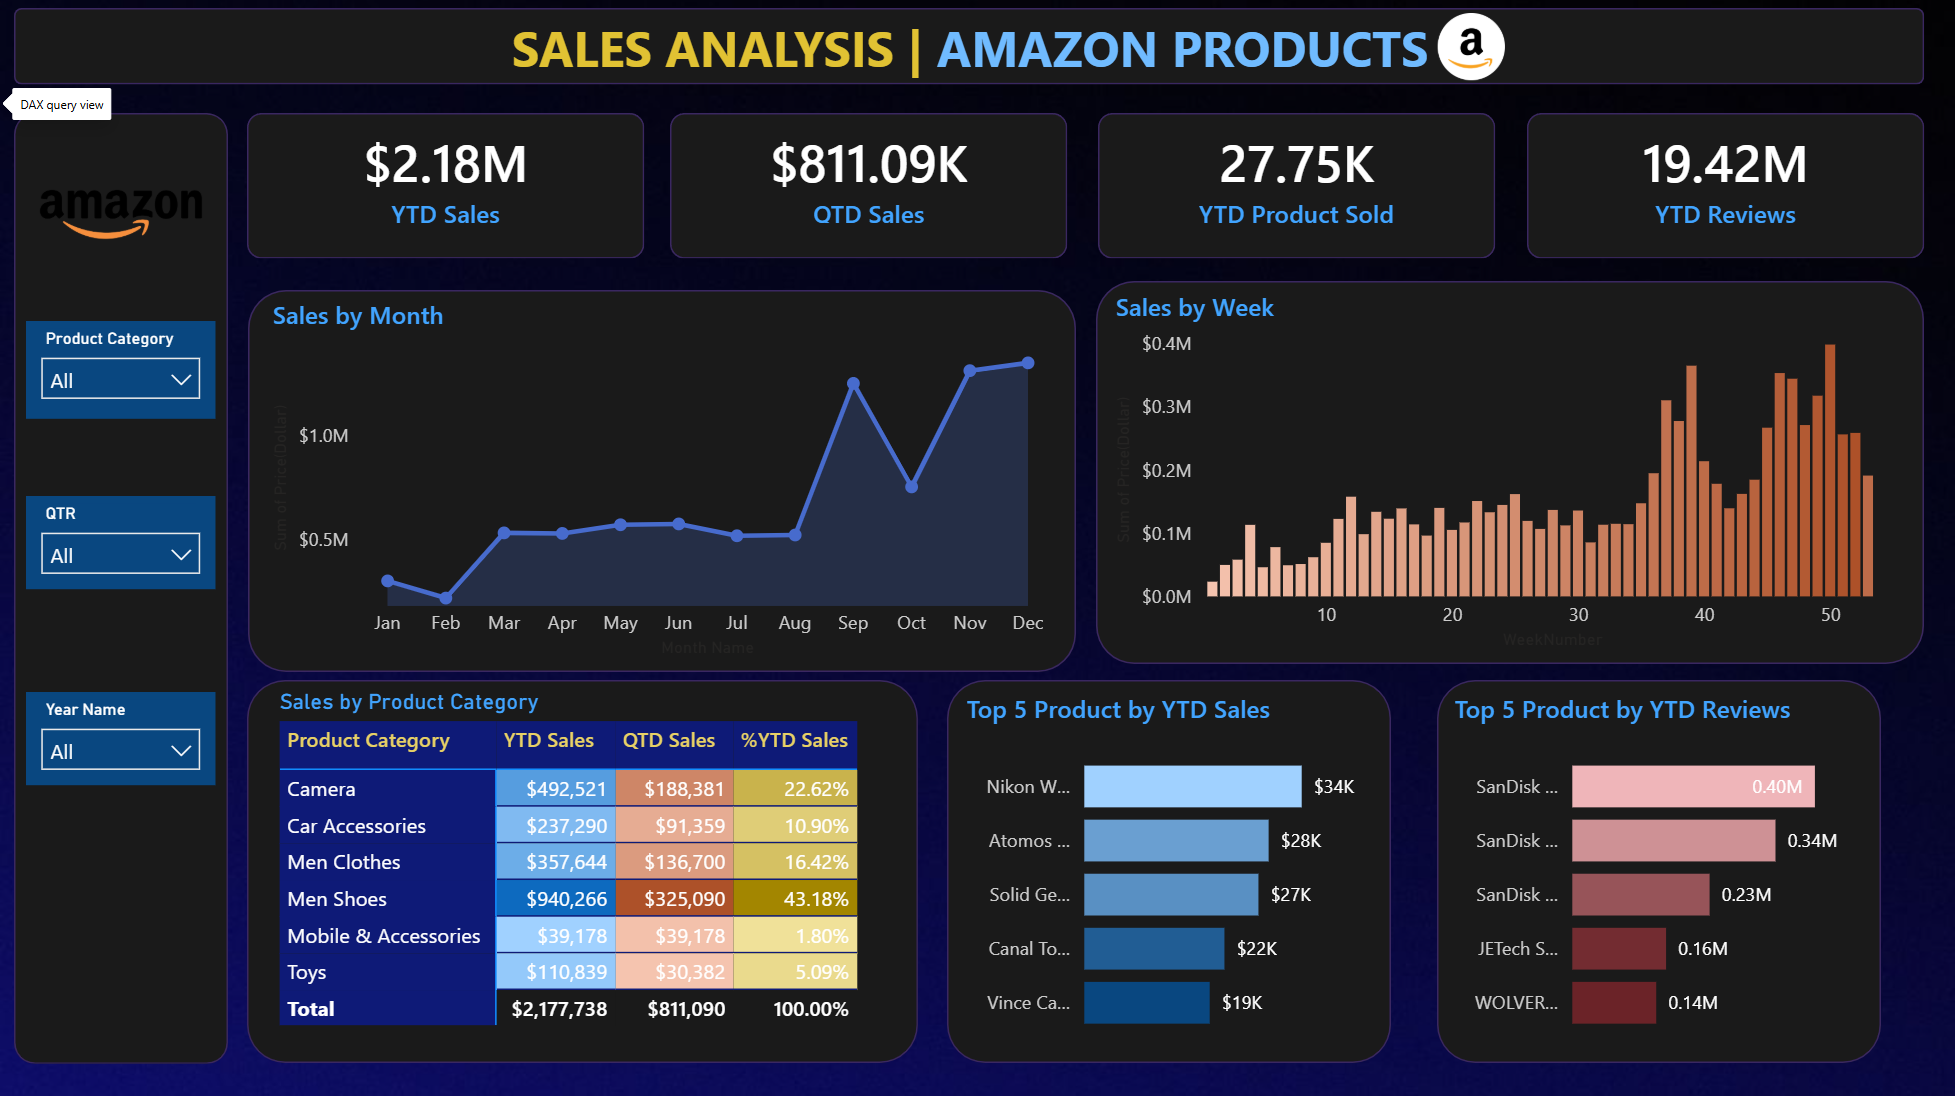

The dashboard page shown, as its layout file describes it:
{"tool":"powerbi","page":{"name":"Page 1","canvas":[1280,720],"ordinal":0},"visuals":[{"type":"shape","box":[9.3,5.3,1250,50],"z":0},{"type":"shape","box":[161.7,73.9,260,95.3],"z":1000},{"type":"textbox","box":[330,4,619.3,52.7],"z":2000},{"type":"cardVisual","fields":{"Data":["Amazon_Data.YTD Sales"]},"box":[161.7,73.9,260.3,95.2],"z":3000},{"type":"image","box":[934,8.7,57.3,44],"z":4000},{"type":"shape","box":[438.4,73.9,260,95.3],"z":5000},{"type":"shape","box":[9.2,73.9,140,622.3],"z":6000},{"type":"shape","box":[718.7,73.9,260,95.3],"z":7000},{"type":"shape","box":[999.1,73.9,260,95.3],"z":8000},{"type":"cardVisual","fields":{"Data":["Amazon_Data.QTD Sales"]},"box":[439.3,73.9,259.6,95.2],"z":9000},{"type":"shape","box":[162.3,189.8,541.8,250],"z":10000},{"type":"cardVisual","fields":{"Data":["Amazon_Data.YTD Product Sold"]},"box":[718.2,73.9,260.3,95.2],"z":11000},{"type":"cardVisual","fields":{"Data":["Amazon_Data.YTD Reviews"]},"box":[999.1,73.9,260.3,95.2],"z":12000},{"type":"areaChart","title":"Sales by Month","fields":{"Category":["Date Table.Month Name"],"Y":["Sum(Amazon_Data.Price(Dollar))"]},"box":[173.4,195,519.6,239.5],"z":13000},{"type":"shape","box":[717.2,183.9,541.8,250.6],"z":14000},{"type":"columnChart","title":"Sales by Week","fields":{"Category":["Date Table.WeekNumber"],"Y":["Sum(Amazon_Data.Price(Dollar))"]},"box":[725.1,189.8,526.1,239.5],"z":15000},{"type":"shape","box":[161.6,445,439.1,250.6],"z":16000},{"type":"pivotTable","title":"Sales by Product Category","fields":{"Rows":["Amazon_Data.Product Category"],"Values":["Amazon_Data.YTD Sales","Amazon_Data.QTD Sales","Divide(Amazon_Data.YTD Sales, ScopedEval(Amazon_Data.YTD Sales, []))"]},"box":[178,450.9,412.3,239.5],"z":17000},{"type":"shape","box":[619.7,445,290.6,250.6],"z":18000},{"type":"shape","box":[940.4,445,290.6,250.6],"z":19000},{"type":"clusteredBarChart","title":"Top 5 Product by YTD Sales","fields":{"Category":["Amazon_Data.Product Description"],"Y":["Amazon_Data.YTD Sales"]},"box":[627.5,452.6,274.4,237.2],"z":20000},{"type":"clusteredBarChart","title":"Top 5 Product by YTD Reviews","fields":{"Category":["Amazon_Data.Product Description"],"Y":["Amazon_Data.YTD Reviews"]},"box":[946.6,452.6,277.1,237.2],"z":21000},{"type":"slicer","fields":{"Values":["Amazon_Data.Product Category"]},"box":[17,210.1,124.3,64.1],"z":22000},{"type":"slicer","fields":{"Values":["Date Table.QTR"]},"box":[17,324.6,124.3,60.9],"z":23000},{"type":"slicer","fields":{"Values":["Date Table.Year Name"]},"box":[17,452.8,124.3,60.9],"z":24000},{"type":"image","box":[9.2,104,140,65.4],"z":25000}]}

Visuals, with their boxes on the page's 1280x720 design canvas (x1, y1, x2, y2). These are canvas units, not pixel positions in the 1955x1096 screenshot, which may show the page scaled, cropped or inside an application window:
shape: region(9, 5, 1259, 55)
shape: region(162, 74, 422, 169)
textbox: region(330, 4, 949, 57)
cardVisual - Amazon_Data.YTD Sales: region(162, 74, 422, 169)
image: region(934, 9, 991, 53)
shape: region(438, 74, 698, 169)
shape: region(9, 74, 149, 696)
shape: region(719, 74, 979, 169)
shape: region(999, 74, 1259, 169)
cardVisual - Amazon_Data.QTD Sales: region(439, 74, 699, 169)
shape: region(162, 190, 704, 440)
cardVisual - Amazon_Data.YTD Product Sold: region(718, 74, 978, 169)
cardVisual - Amazon_Data.YTD Reviews: region(999, 74, 1259, 169)
"Sales by Month" areaChart: region(173, 195, 693, 434)
shape: region(717, 184, 1259, 434)
"Sales by Week" columnChart: region(725, 190, 1251, 429)
shape: region(162, 445, 601, 696)
"Sales by Product Category" pivotTable: region(178, 451, 590, 690)
shape: region(620, 445, 910, 696)
shape: region(940, 445, 1231, 696)
"Top 5 Product by YTD Sales" clusteredBarChart: region(628, 453, 902, 690)
"Top 5 Product by YTD Reviews" clusteredBarChart: region(947, 453, 1224, 690)
slicer - Amazon_Data.Product Category: region(17, 210, 141, 274)
slicer - Date Table.QTR: region(17, 325, 141, 386)
slicer - Date Table.Year Name: region(17, 453, 141, 514)
image: region(9, 104, 149, 169)
